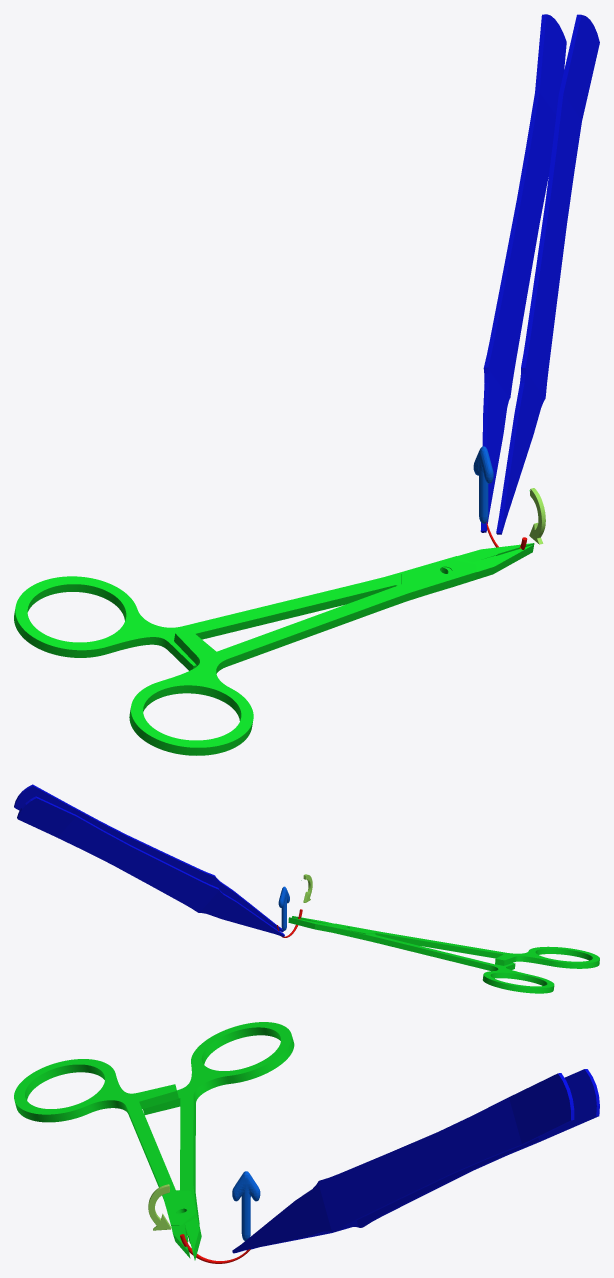
3 renders of one model, top to bottom at view 1: azimuth 30°, elevation 25°; view 2: azimuth 150°, elevation 25°; view 3: azimuth 270°, elevation 25°, orthographic. The views are drawn at different scales.
Parts seen in each view (by area): view 1: scene5_ui; view 2: scene5_ui; view 3: scene5_ui.
Part boxes in pixels (<box>): scene5_ui: <box>14,14,599,755</box>; scene5_ui: <box>14,784,599,993</box>; scene5_ui: <box>14,1022,599,1263</box>.
Bounding box in the file's own units: 177 × 79.57 × 130.
